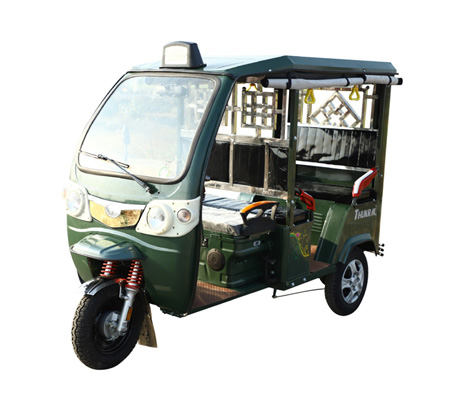rickshaw: (49, 36, 407, 378)
